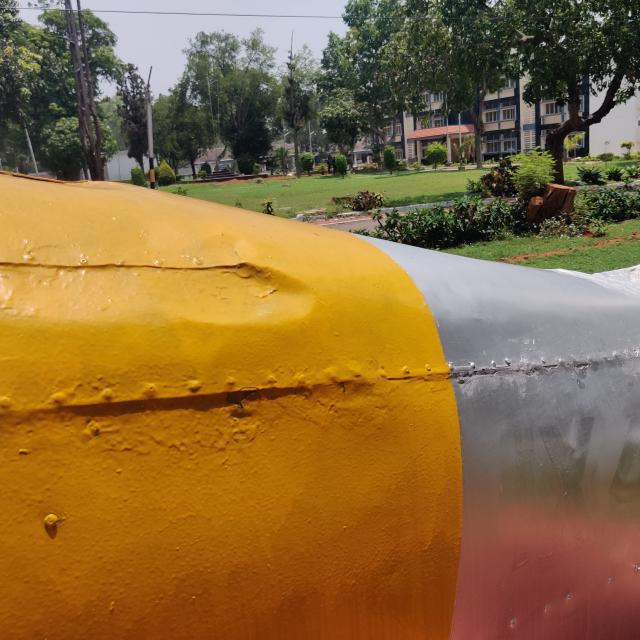dent: (145, 218, 341, 348)
